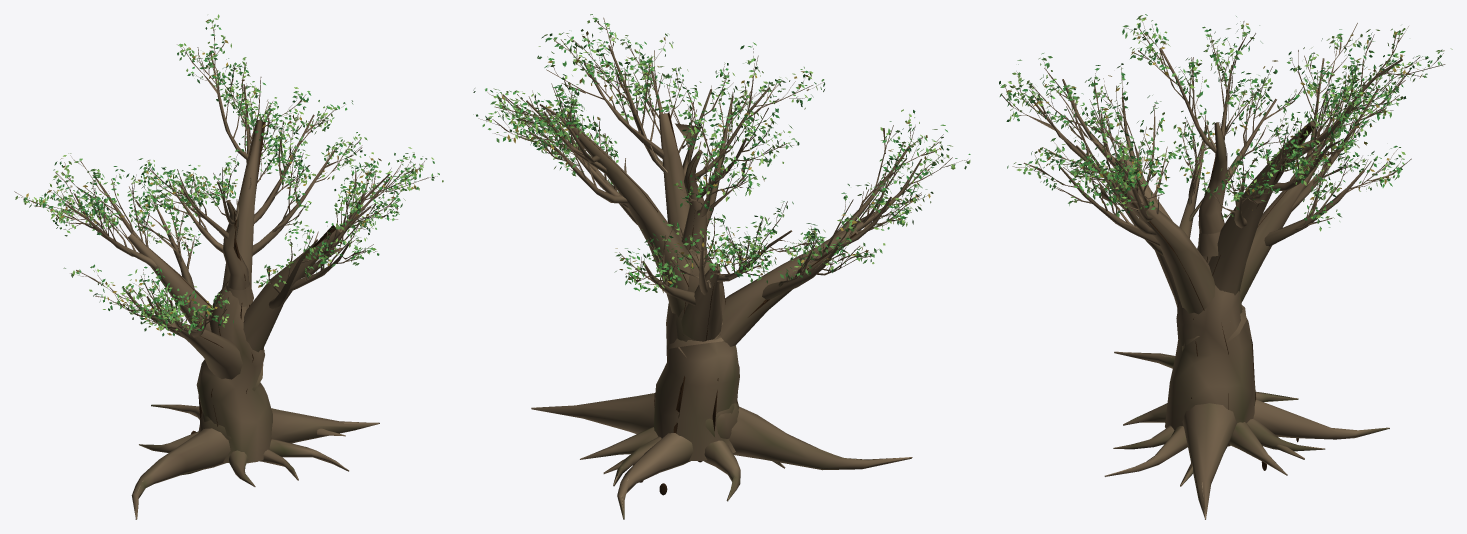
File: ancient_tree_05_lod2.glb
3 views of the same model, side by side, from view 1: azimuth 30°, elevation 25°; view 2: azimuth 150°, elevation 25°; view 3: azimuth 270°, elevation 25° (orthographic). The views are drawn at different scales.
Parts seen in each view (by area): view 1: AncientTreeWood_LOD2, AncientLeaves_LOD2, FineBranches_LOD2, DirectedBarkGrooves_LOD2; view 2: AncientTreeWood_LOD2, AncientLeaves_LOD2, FineBranches_LOD2, DirectedBarkGrooves_LOD2; view 3: AncientTreeWood_LOD2, AncientLeaves_LOD2, FineBranches_LOD2, DirectedBarkGrooves_LOD2.
Part boxes in pixels (x1,y1,x2,y2): AncientTreeWood_LOD2: [14, 27, 428, 519]; AncientLeaves_LOD2: [15, 14, 443, 336]; FineBranches_LOD2: [18, 23, 437, 332]; DirectedBarkGrooves_LOD2: [133, 121, 335, 426]; AncientTreeWood_LOD2: [492, 17, 952, 519]; AncientLeaves_LOD2: [473, 14, 970, 292]; FineBranches_LOD2: [478, 16, 967, 287]; DirectedBarkGrooves_LOD2: [574, 111, 856, 433]; AncientTreeWood_LOD2: [1001, 23, 1445, 519]; AncientLeaves_LOD2: [999, 14, 1452, 231]; FineBranches_LOD2: [1004, 18, 1443, 225]; DirectedBarkGrooves_LOD2: [1119, 122, 1318, 445].
Bounding box in the file's own units: 20.8 × 22.58 × 20.6.
